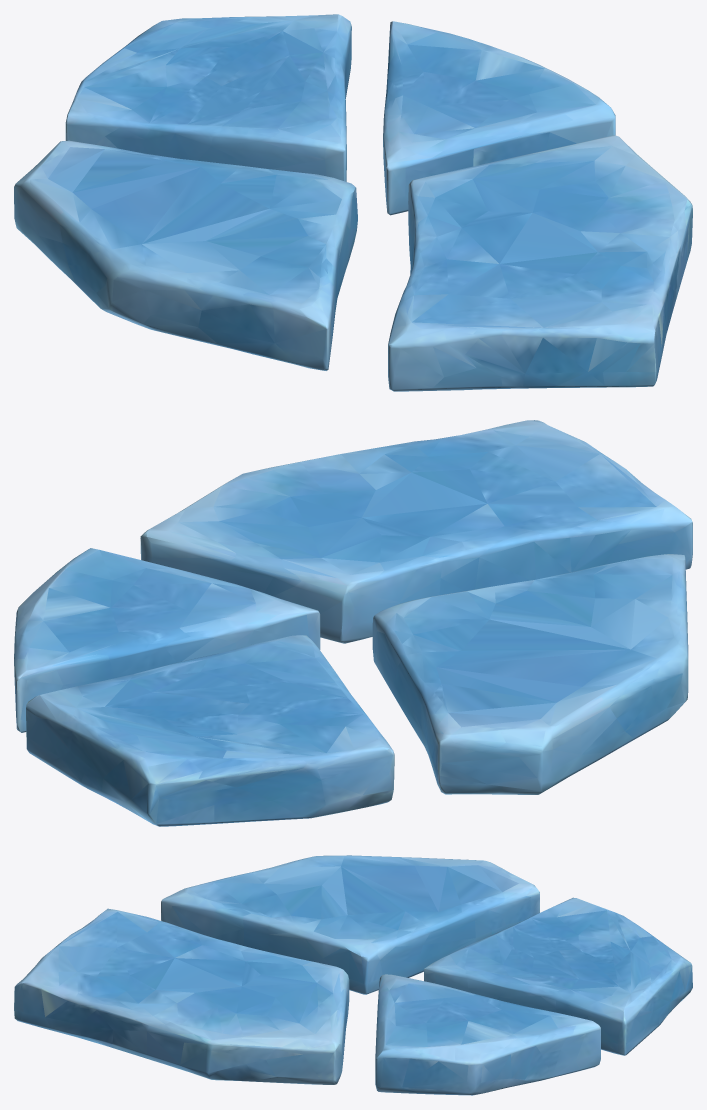
File: placa_hielo_rota_2500.glb
3 renders of one model, top to bottom at view 1: azimuth 30°, elevation 25°; view 2: azimuth 150°, elevation 25°; view 3: azimuth 270°, elevation 25°, orthographic. The views are drawn at different scales.
Parts seen in each view (by area): view 1: placa_hielo_rota_malla; view 2: placa_hielo_rota_malla; view 3: placa_hielo_rota_malla.
Part boxes in pixels (x1,y1,x2,y2): placa_hielo_rota_malla: (14, 14, 692, 391); placa_hielo_rota_malla: (14, 420, 692, 826); placa_hielo_rota_malla: (14, 855, 692, 1095).
Bounding box in the file's own units: 0.2608 × 0.0277 × 0.3708.
1 material, 1 textured.
